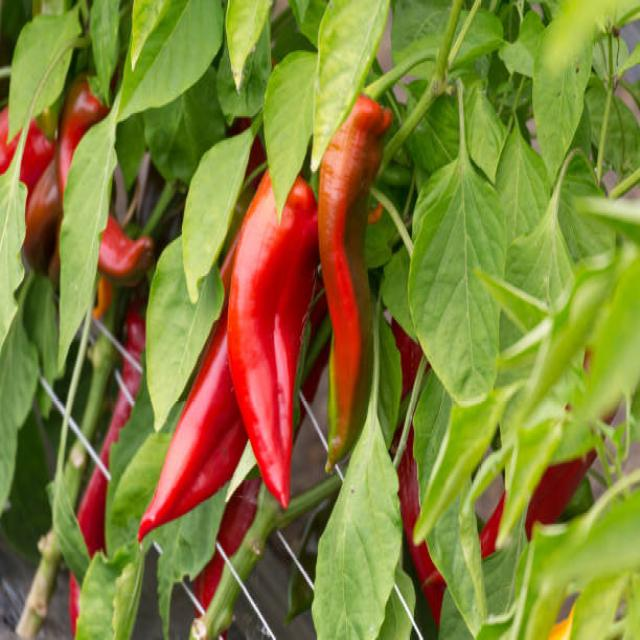Half-Ripe: (318, 96, 391, 467)
Ripe: (224, 160, 320, 519), (139, 320, 246, 538)
